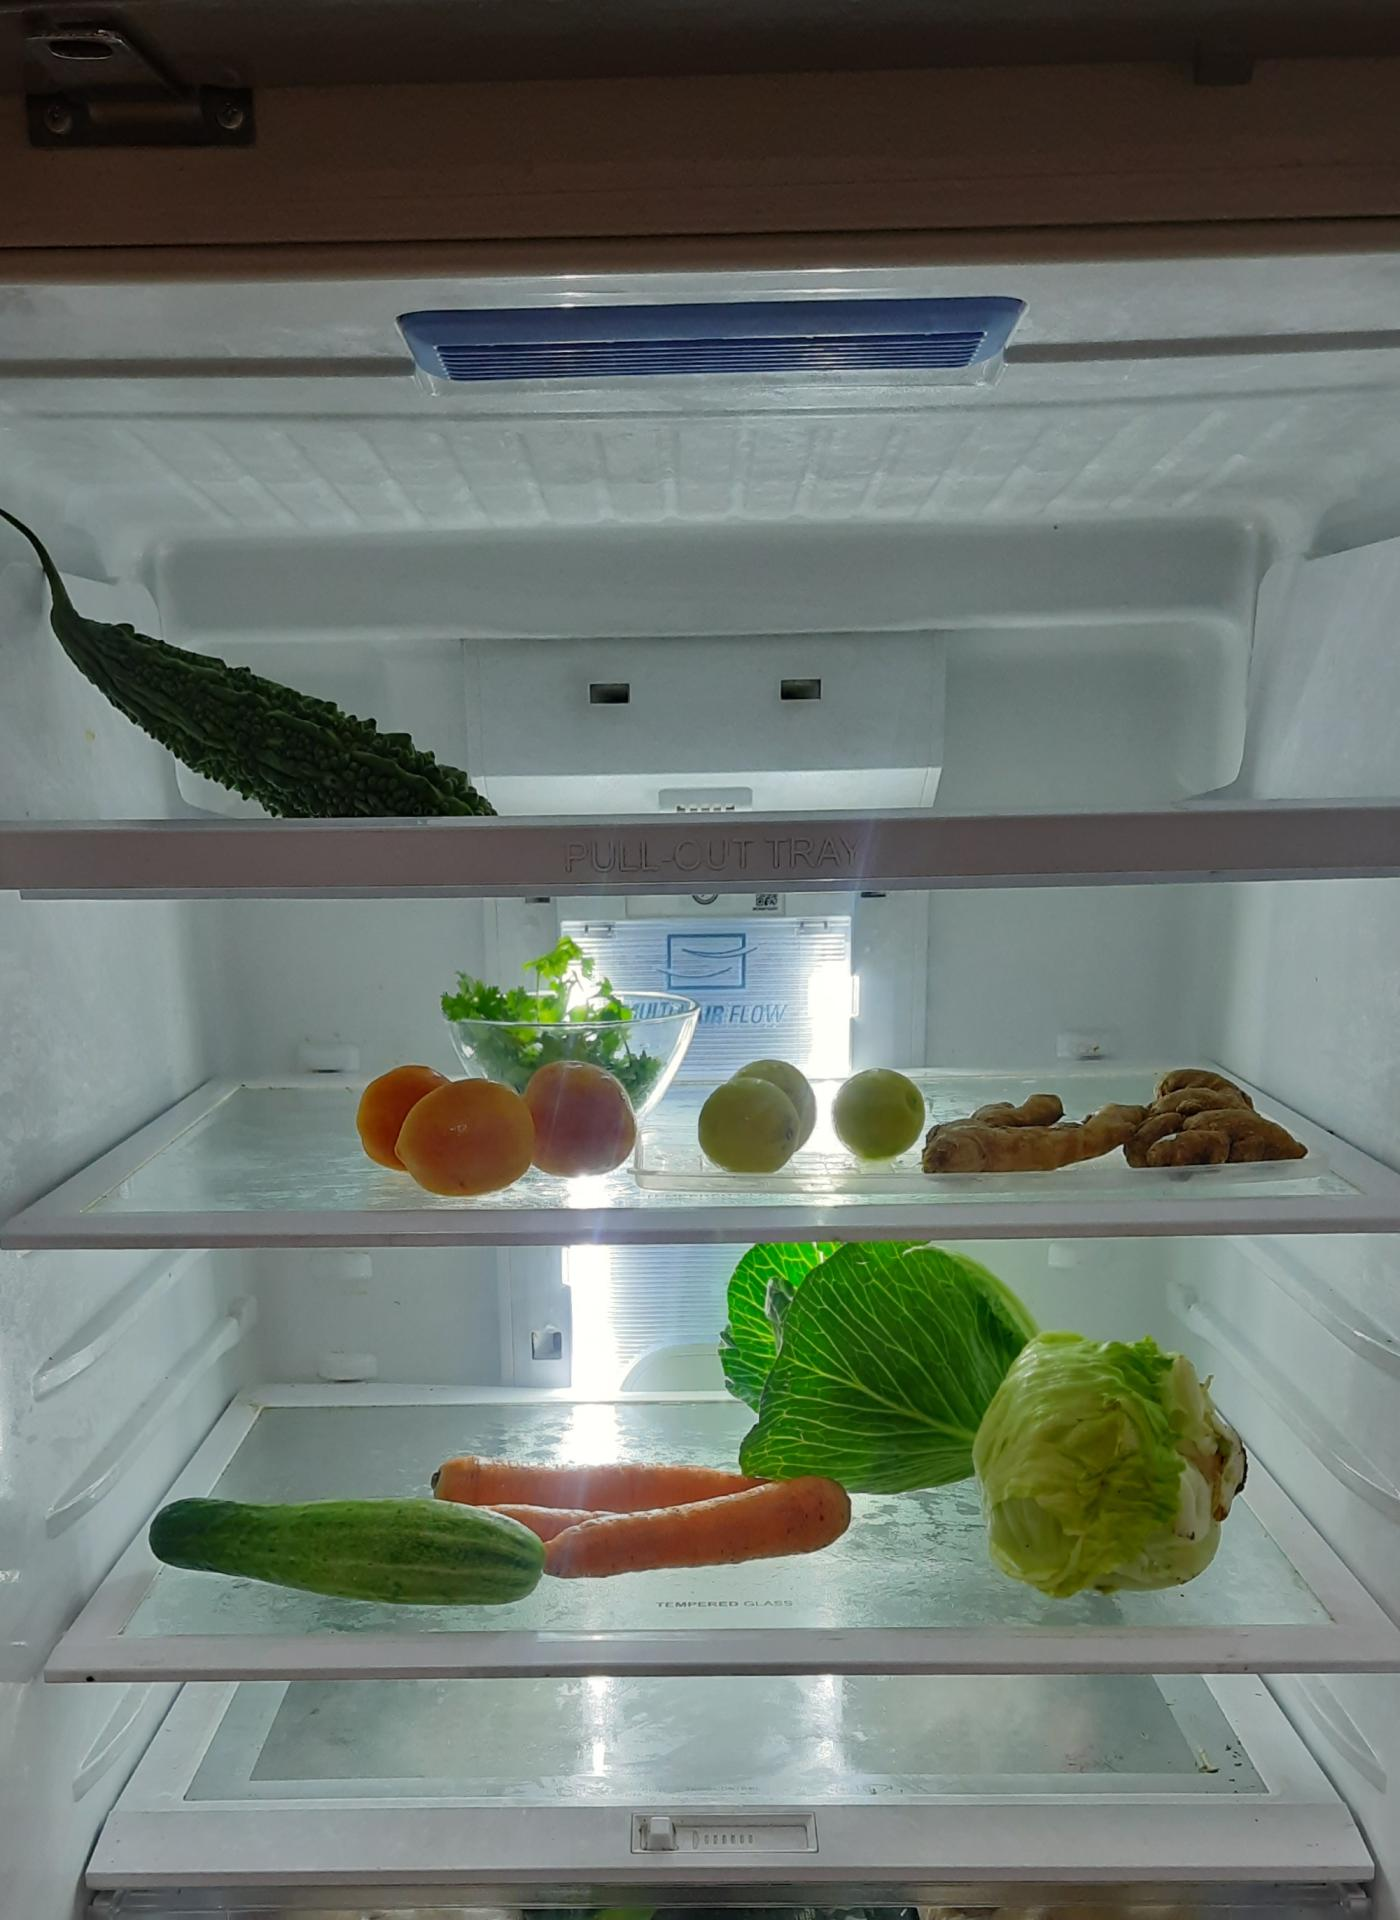bitter gourd: (33, 547, 526, 827)
cabbage: (723, 1239, 1053, 1491)
carrots: (420, 1438, 856, 1564)
coriander: (445, 941, 661, 1055)
cucumber: (133, 1486, 555, 1610)
ginger: (926, 1068, 1302, 1168)
lemon: (696, 1046, 820, 1176), (830, 1060, 934, 1165)
lettuce: (975, 1333, 1246, 1601)
tomato: (343, 1054, 639, 1188)
